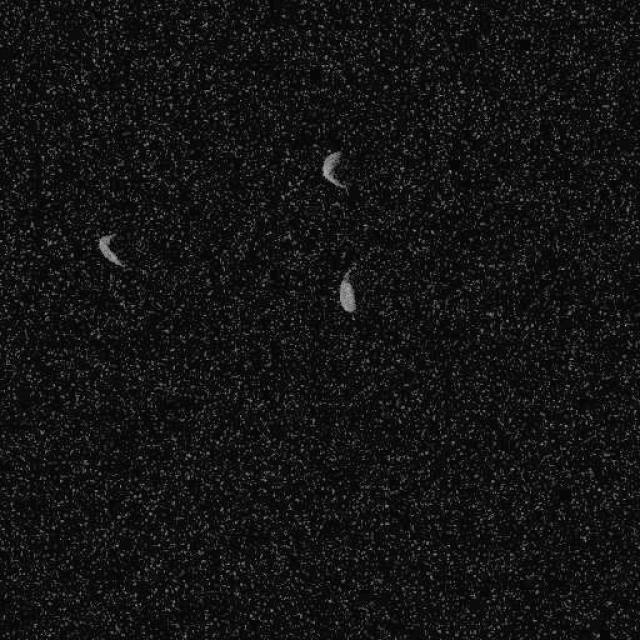D2: (95, 231, 129, 271), (320, 148, 348, 190), (338, 268, 358, 312)
